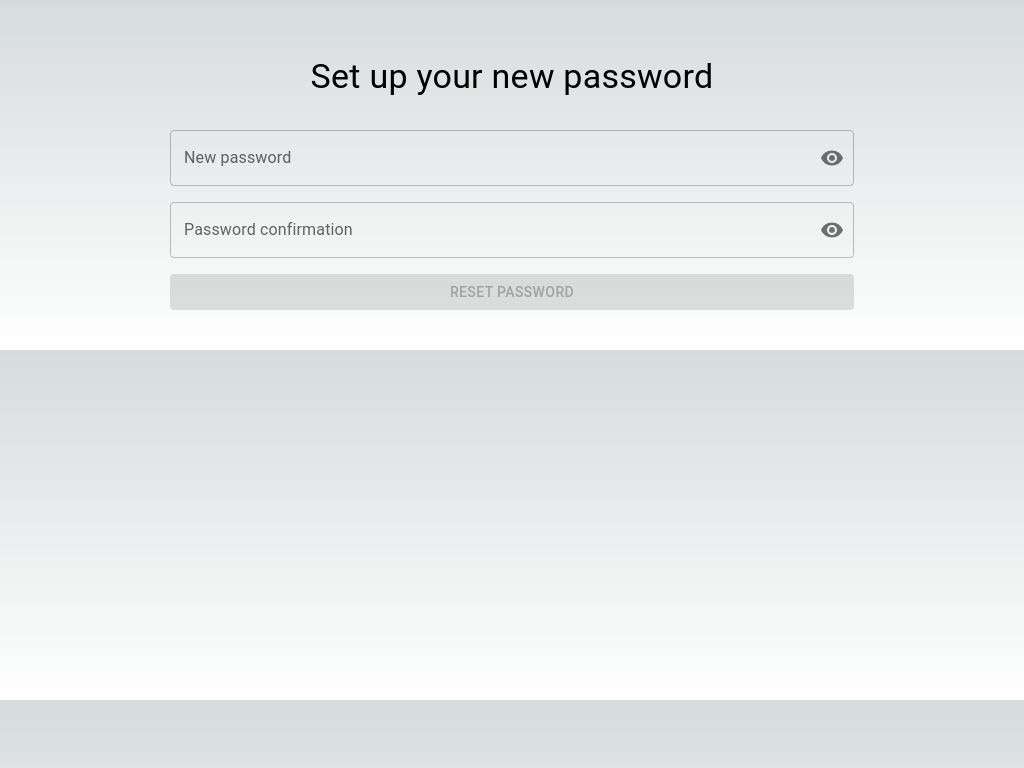
Reset Password Container › Submit Form › should show success message in case of successful submit
Type "Rodrizio.123" into the password field labelled "New password" at (487, 158), box [170,130,804,186]
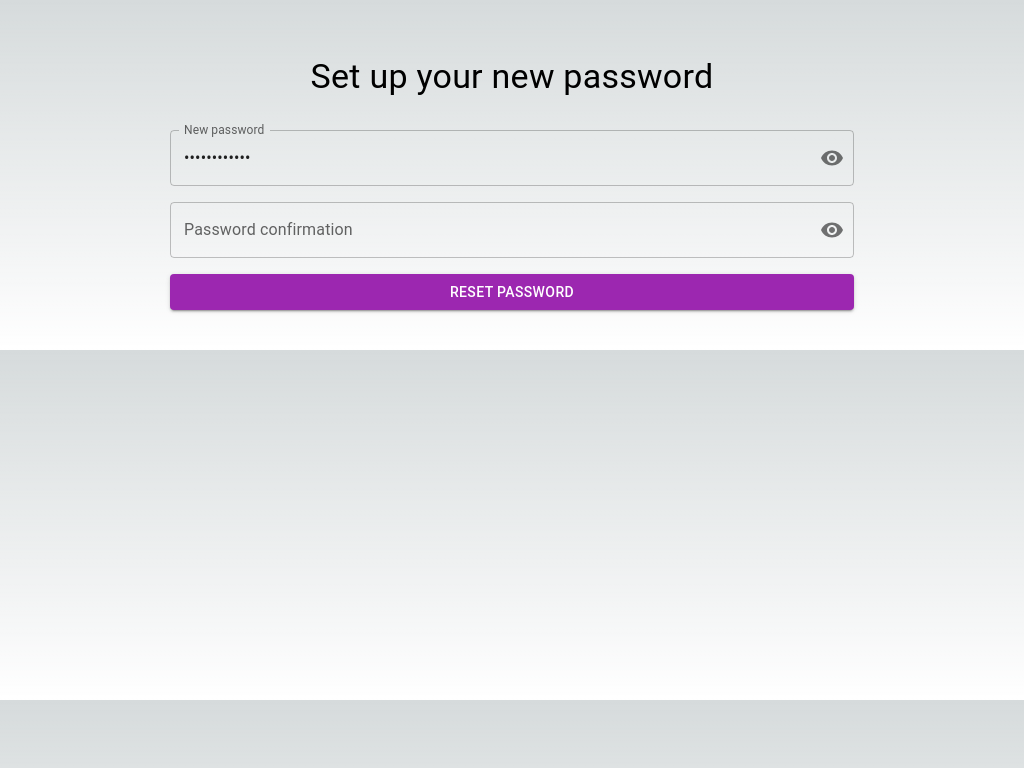
Type "Rodrizio.123" into the password field labelled "Password confirmation" at (487, 230), box [170,202,804,258]
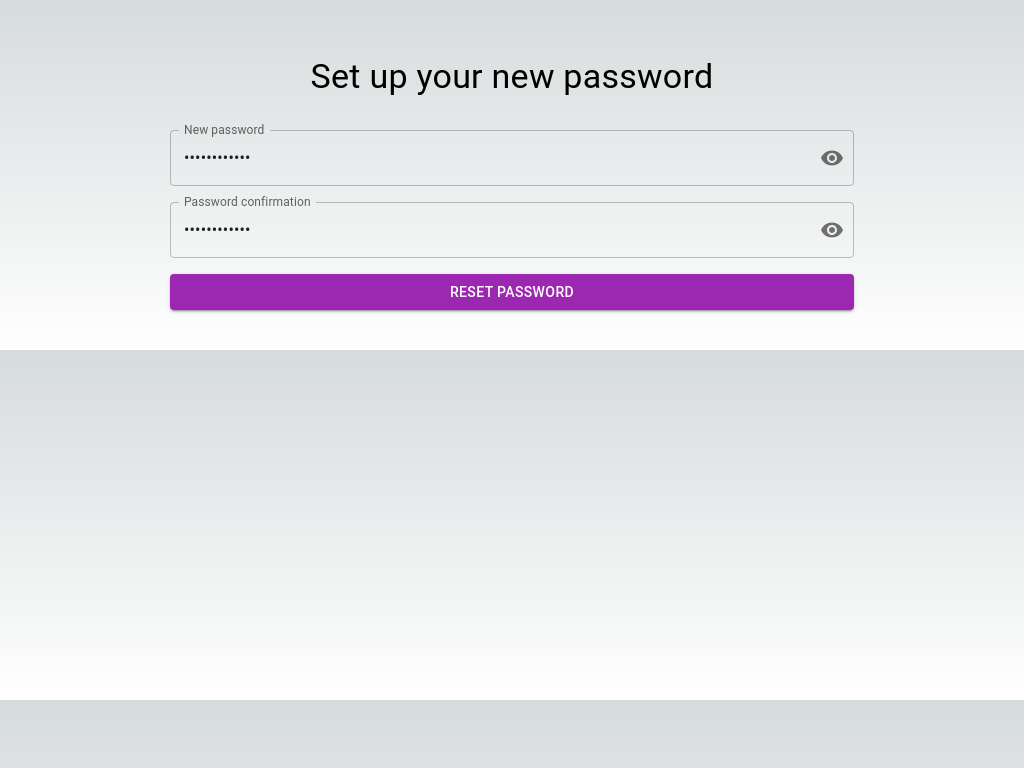
Click the button "Reset password" at (512, 292), box [170,274,854,310]
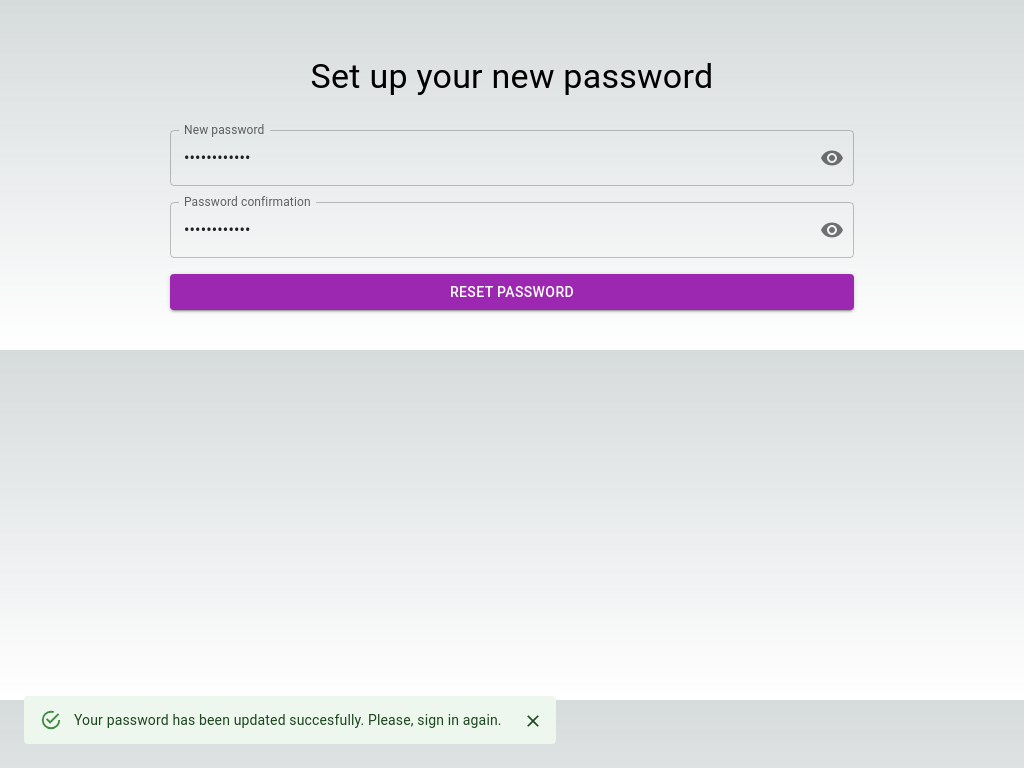
Check: the text "Your password has been updated succesfully. Please, sign in again." is shown, box [74,712,502,728]
